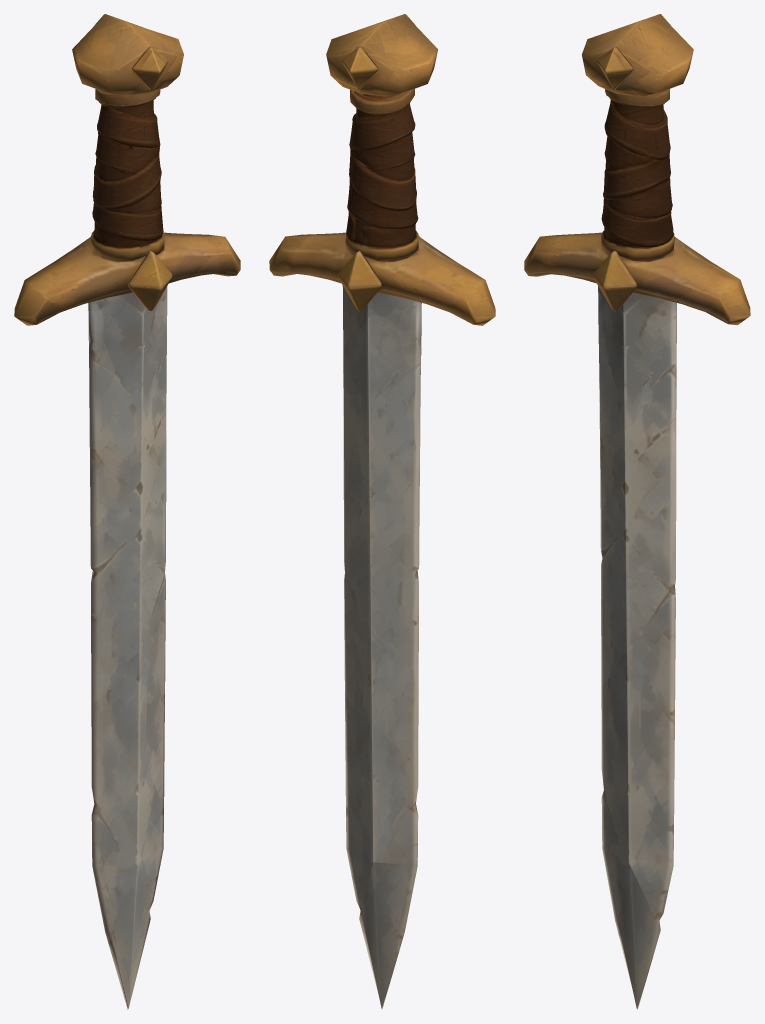
Rendered from espada-eromash-base.glb.
3 renders of one model, left to right at view 1: azimuth 30°, elevation 25°; view 2: azimuth 150°, elevation 25°; view 3: azimuth 330°, elevation 25°, orthographic.
Visible parts, largest first — view 1: cf0981a1_b4f1_422a_826f_051de80c98b3; view 2: cf0981a1_b4f1_422a_826f_051de80c98b3; view 3: cf0981a1_b4f1_422a_826f_051de80c98b3.
Boxes of the visible parts, <box> form: cf0981a1_b4f1_422a_826f_051de80c98b3: <box>14,14,240,1009</box>; cf0981a1_b4f1_422a_826f_051de80c98b3: <box>269,14,495,1009</box>; cf0981a1_b4f1_422a_826f_051de80c98b3: <box>524,14,750,1009</box>.
Bounding box in the file's own units: 0.2397 × 0.9995 × 0.1235.
Materials: 1 (1 with a texture image).
